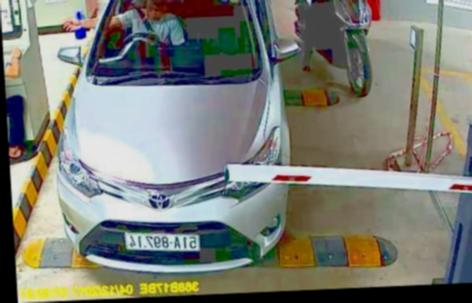License_Plate: (123, 227, 202, 257)
